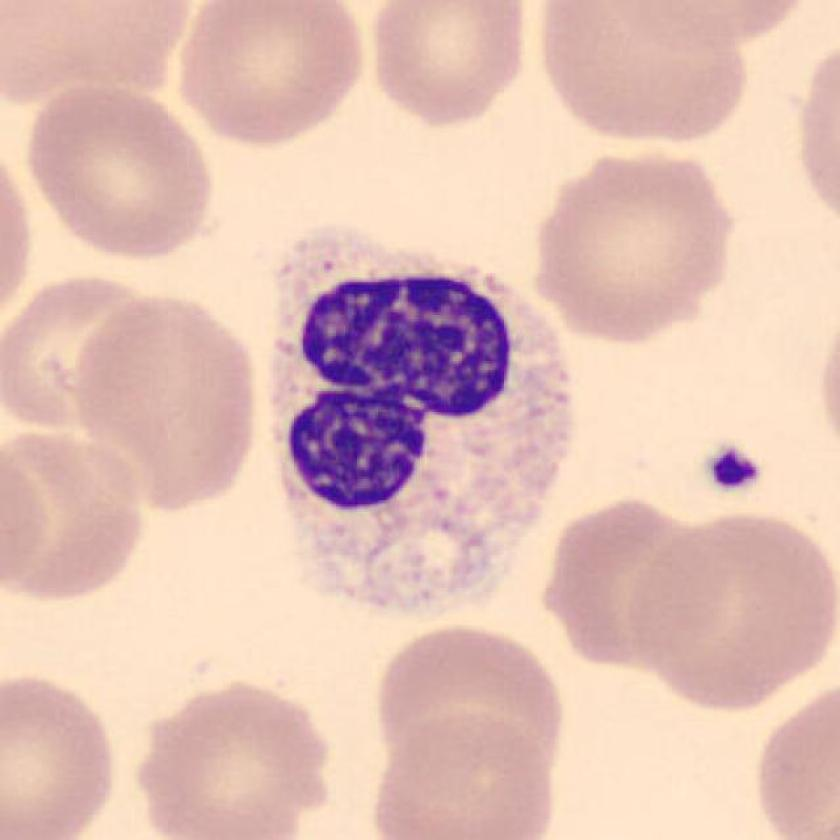neutrophil: (273, 232, 573, 617)
